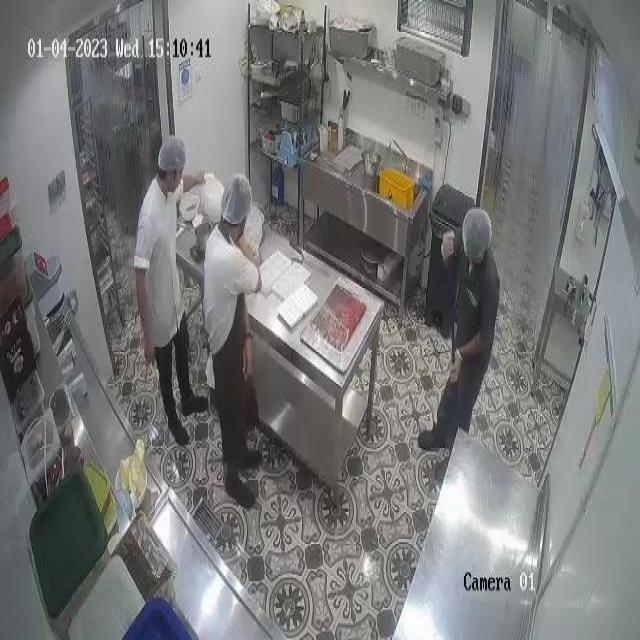hairnet: (460, 210, 490, 264), (221, 178, 255, 223), (157, 137, 185, 172)
